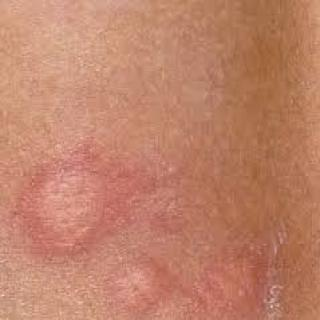urticaria: (23, 157, 121, 252), (129, 158, 194, 235), (255, 219, 299, 320), (110, 262, 169, 315)
